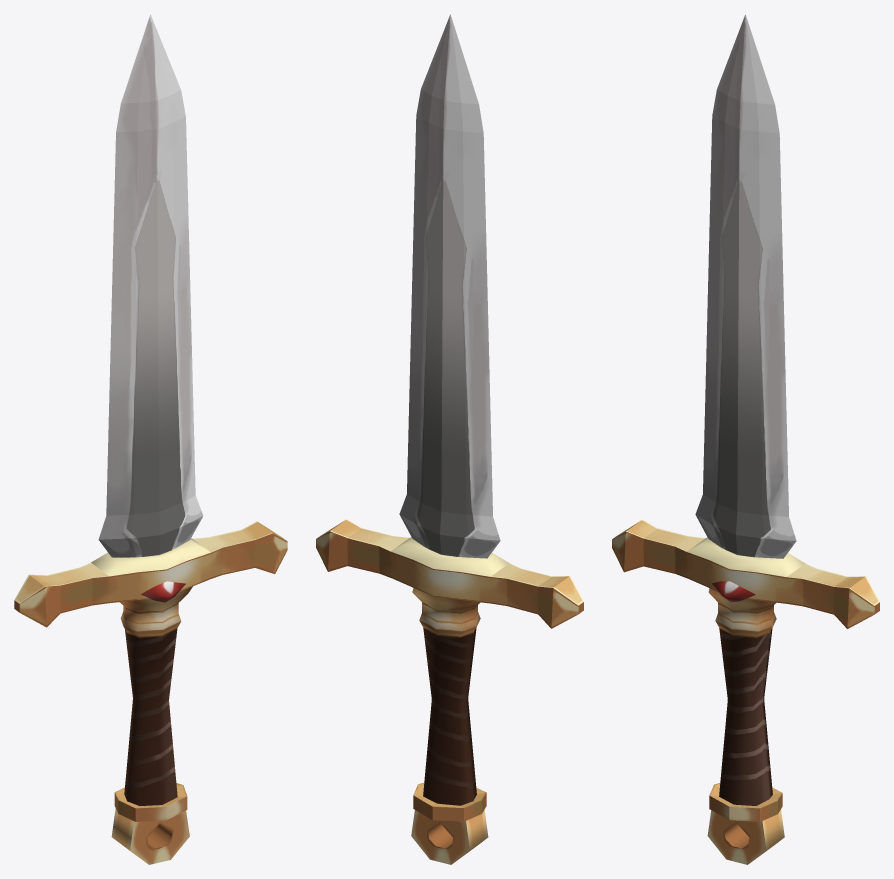
The model's file is KnightSword.FBX.
3 views of the same model, side by side, from view 1: azimuth 30°, elevation 25°; view 2: azimuth 150°, elevation 25°; view 3: azimuth 330°, elevation 25° (orthographic).
Visible parts, largest first — view 1: Cylinder001; view 2: Cylinder001; view 3: Cylinder001.
Part boxes in pixels (x1,y1,x2,y2): Cylinder001: [14, 14, 287, 864]; Cylinder001: [316, 14, 583, 864]; Cylinder001: [612, 14, 879, 864].
Size of the model in its own units: 125 by 379 by 30.75.
